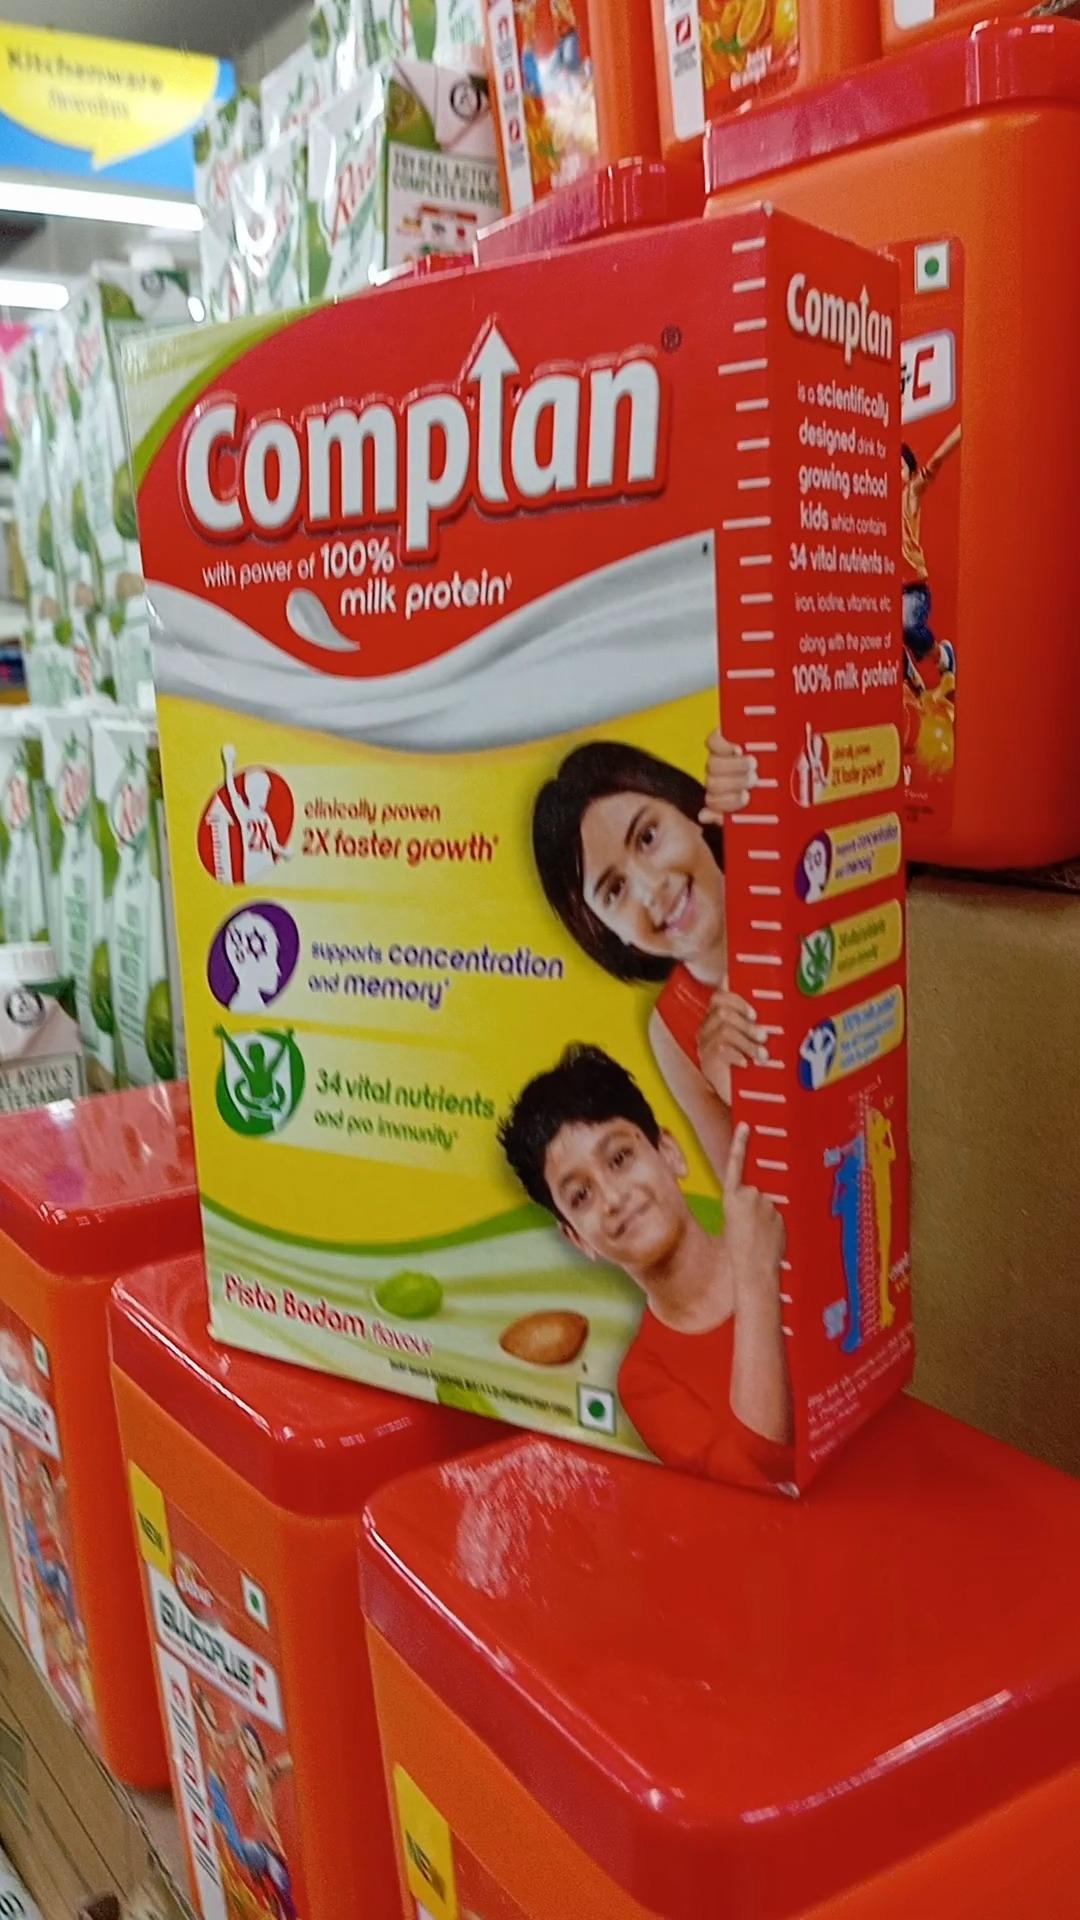COMPLAN_PISTA_BADAM_500_GMS_PACK: (169, 327, 794, 1456)
